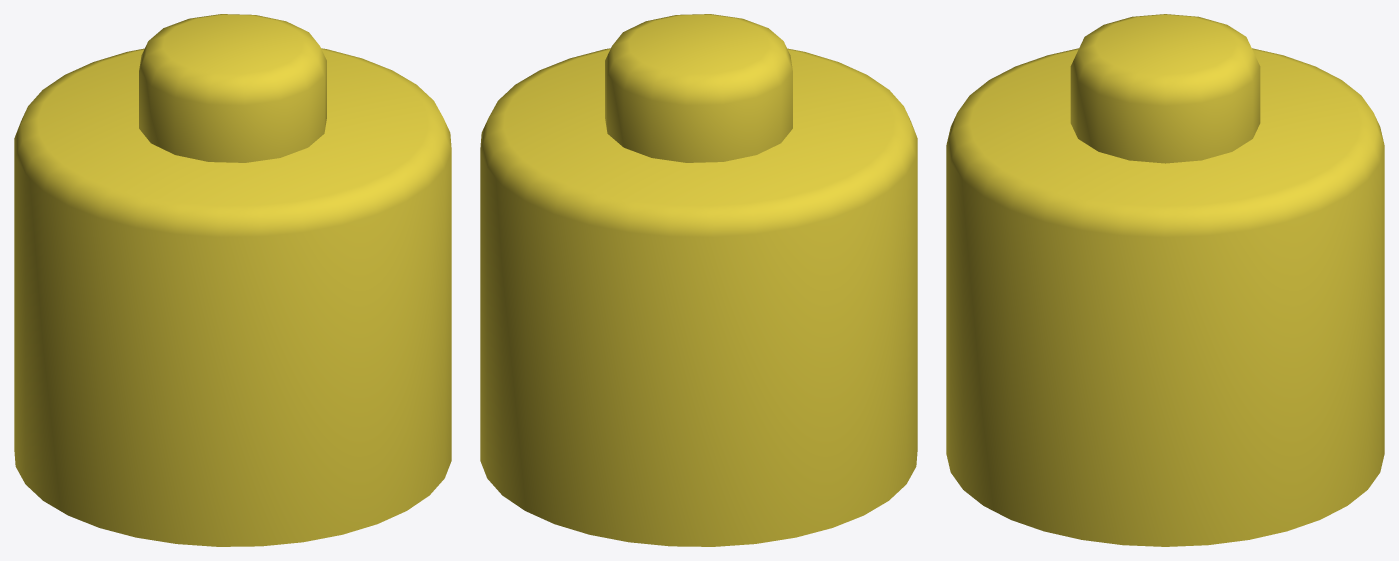
The model's file is Lv2-Y-Factory-Top.fbx.
3 views of the same model, side by side, from view 1: azimuth 30°, elevation 25°; view 2: azimuth 150°, elevation 25°; view 3: azimuth 270°, elevation 25° (orthographic).
Parts seen in each view (by area): view 1: Lv2-Y-Factory-Top; view 2: Lv2-Y-Factory-Top; view 3: Lv2-Y-Factory-Top.
Boxes of the visible parts, <box> form: Lv2-Y-Factory-Top: <box>14,14,451,546</box>; Lv2-Y-Factory-Top: <box>480,14,917,546</box>; Lv2-Y-Factory-Top: <box>946,14,1384,546</box>.
Bounding box in the file's own units: 1.85 × 1.91 × 1.85.
